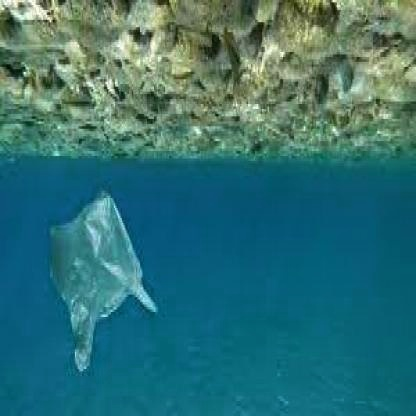pbag: (47, 188, 158, 376)
